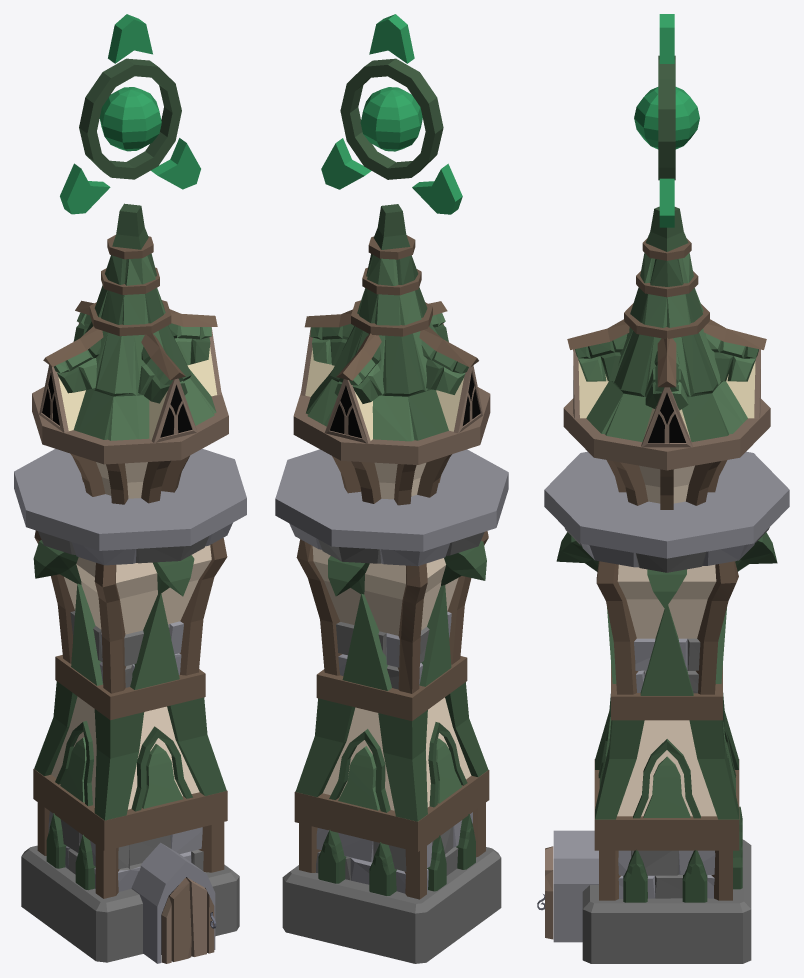
The model's file is Wizard_Tower_lv4.gltf.
The picture shows the model from 3 angles, left to right: view 1: azimuth 30°, elevation 25°; view 2: azimuth 150°, elevation 25°; view 3: azimuth 270°, elevation 25°; orthographic projection.
Visible parts, largest first — view 1: Wizard_Tower_LVL_4_Body, Wizard_Tower_LVL_4_Head; view 2: Wizard_Tower_LVL_4_Body, Wizard_Tower_LVL_4_Head; view 3: Wizard_Tower_LVL_4_Body, Wizard_Tower_LVL_4_Head.
Boxes of the visible parts, x1,y1,x2,y2 form: Wizard_Tower_LVL_4_Body: (14, 203, 246, 963); Wizard_Tower_LVL_4_Head: (60, 14, 200, 214); Wizard_Tower_LVL_4_Body: (275, 204, 508, 963); Wizard_Tower_LVL_4_Head: (321, 14, 462, 214); Wizard_Tower_LVL_4_Body: (537, 206, 789, 963); Wizard_Tower_LVL_4_Head: (634, 14, 699, 227).
Size of the model in its own units: 2.76 by 11.36 by 2.84.
2 materials, 2 textured.
